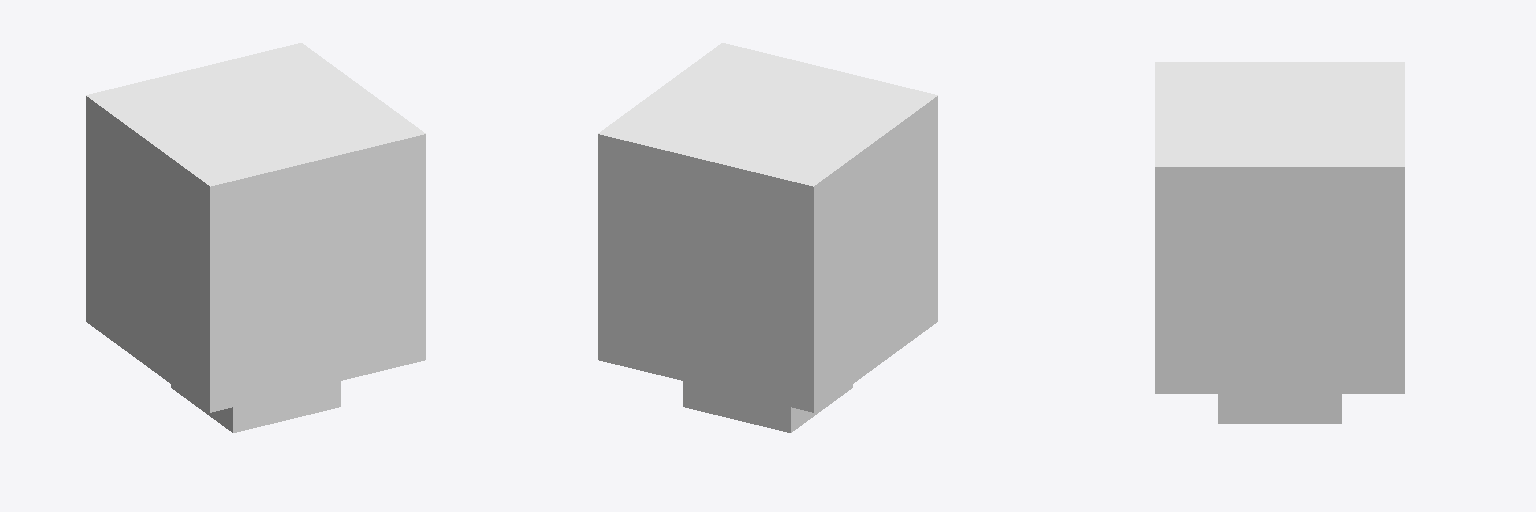
File: Brush-3.obj
3 views of the same model, side by side, from view 1: azimuth 30°, elevation 25°; view 2: azimuth 150°, elevation 25°; view 3: azimuth 270°, elevation 25° (orthographic).
Parts seen in each view (by area): view 1: object 1; view 2: object 1; view 3: object 1.
Boxes of the visible parts, <box> form: object 1: <box>86,43,425,432</box>; object 1: <box>598,43,937,432</box>; object 1: <box>1155,62,1404,423</box>.
Bounding box in the file's own units: 0.4 × 0.5 × 0.4.